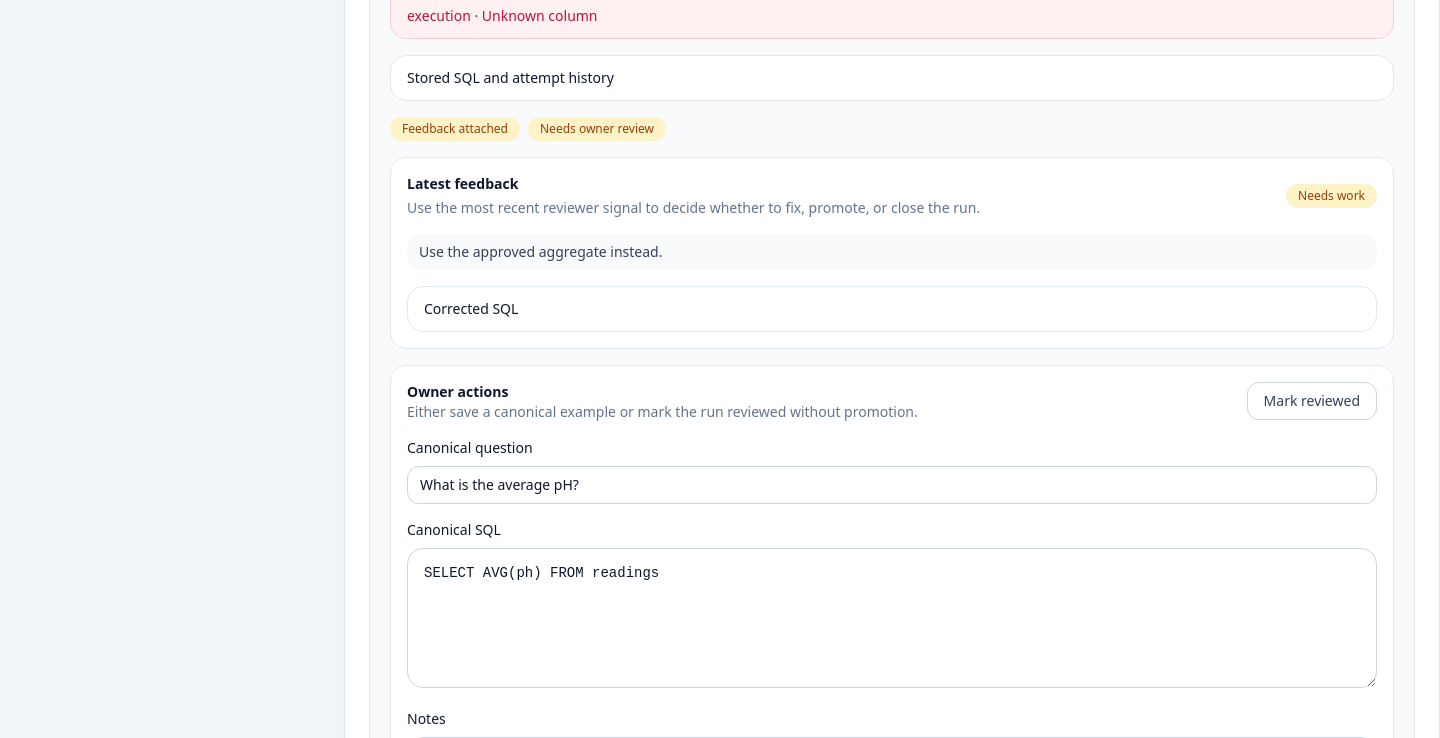
ReviewPage › marks a review item as reviewed and refreshes the open queue
The image size is (1440, 738).
(page scrolled)
Click the button "Mark reviewed" at (1312, 401), box [1247, 382, 1377, 420]
(page scrolled)
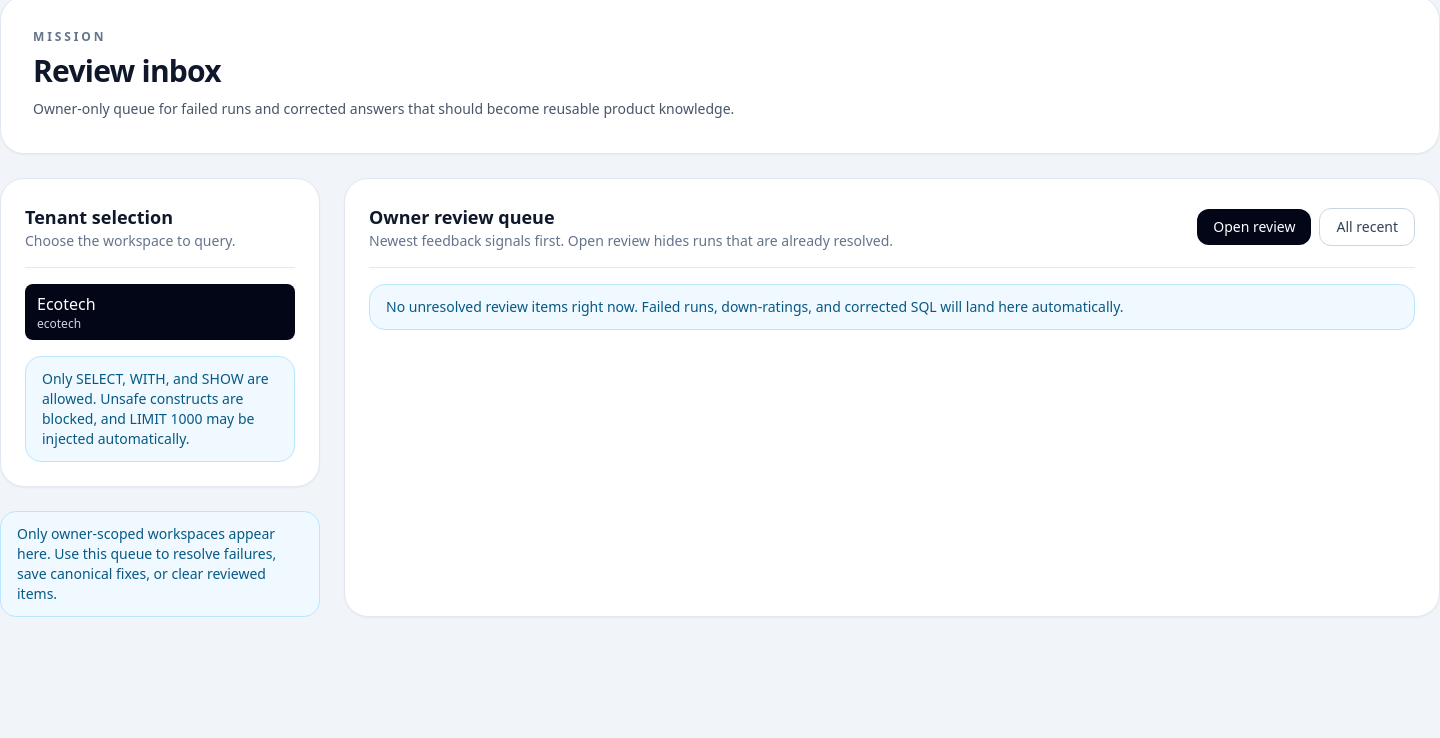
Expected: the text "No unresolved review items right now" is shown, [386, 297, 1124, 316]
